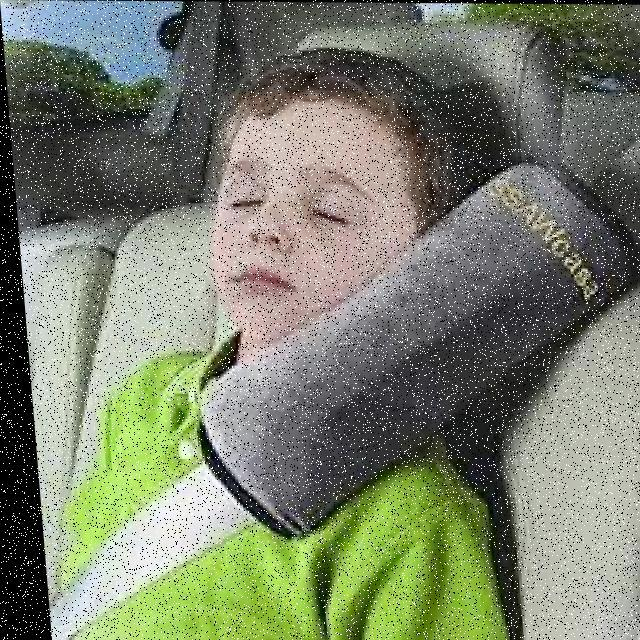seatbelt: (108, 319, 459, 640)
